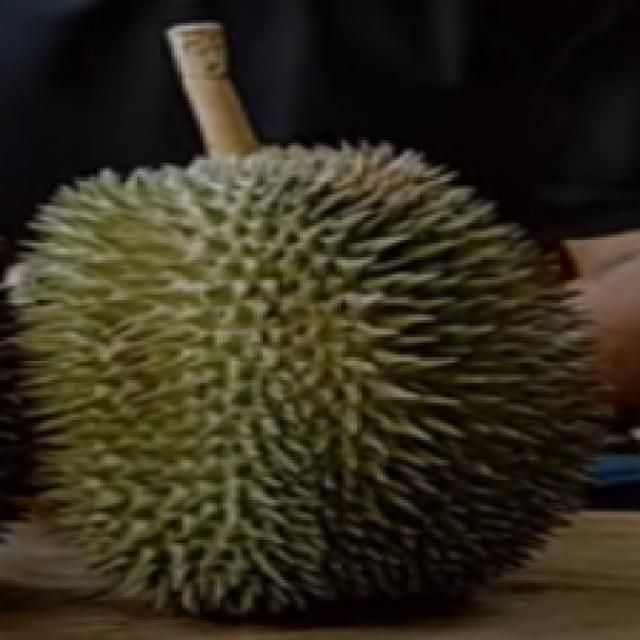d101: (48, 148, 590, 608)
